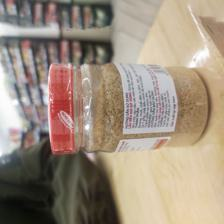Hao_hao: (46, 61, 208, 152)
